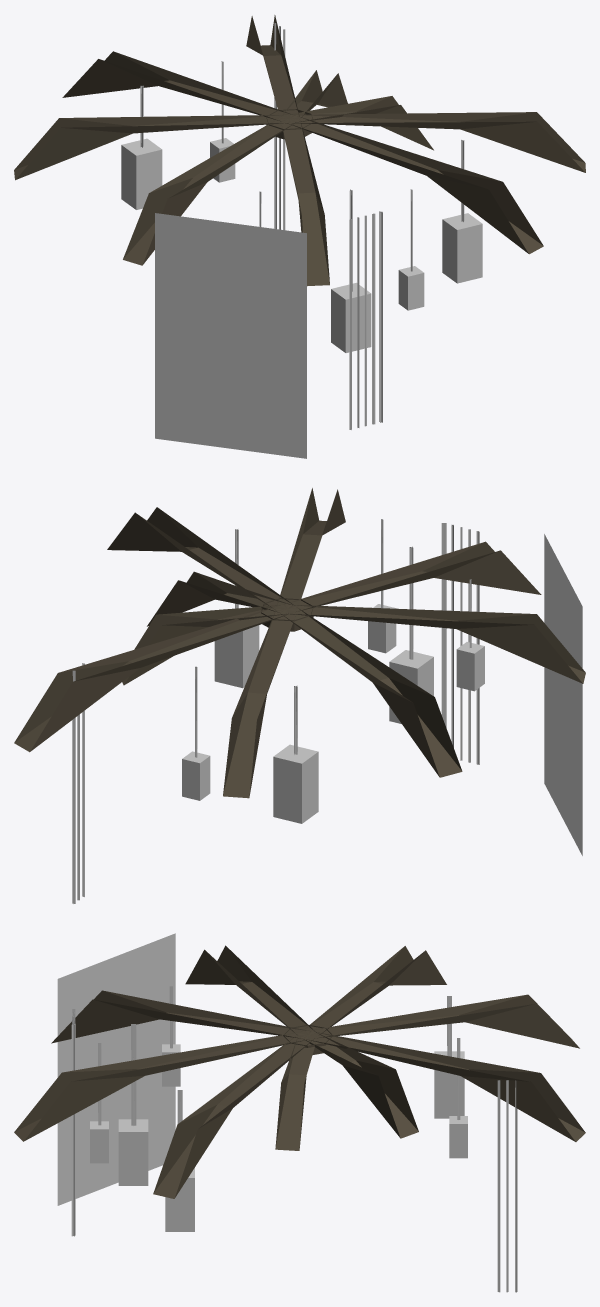
File: DT_2ND_FLOOR_GEWOELBE.OBJ
3 renders of one model, top to bottom at view 1: azimuth 30°, elevation 25°; view 2: azimuth 150°, elevation 25°; view 3: azimuth 270°, elevation 25°, orthographic. The views are drawn at different scales.
Parts seen in each view (by area): view 1: DT_2ND_FLOOR_GEWOELBE; view 2: DT_2ND_FLOOR_GEWOELBE; view 3: DT_2ND_FLOOR_GEWOELBE.
Boxes of the visible parts, <box> form: DT_2ND_FLOOR_GEWOELBE: <box>14,15,585,458</box>; DT_2ND_FLOOR_GEWOELBE: <box>14,488,585,903</box>; DT_2ND_FLOOR_GEWOELBE: <box>14,933,585,1292</box>.
Size of the model in its own units: 13.75 by 6.64 by 15.15.
